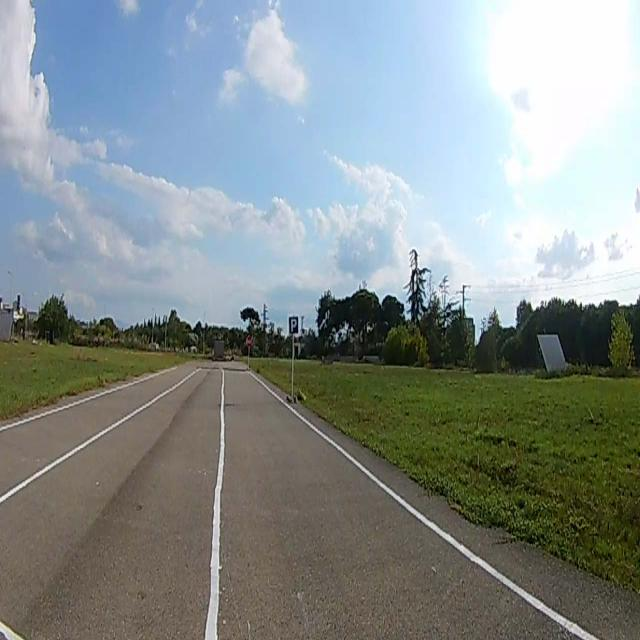park: (288, 318, 298, 334)
